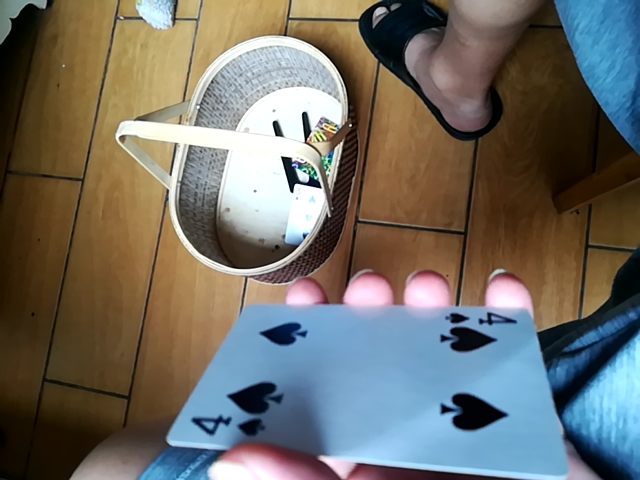ht 4: (168, 296, 567, 477)
